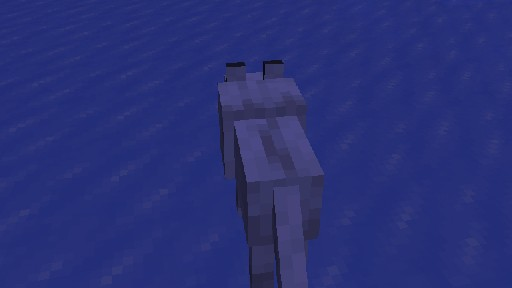wolf: (216, 59, 324, 288)
